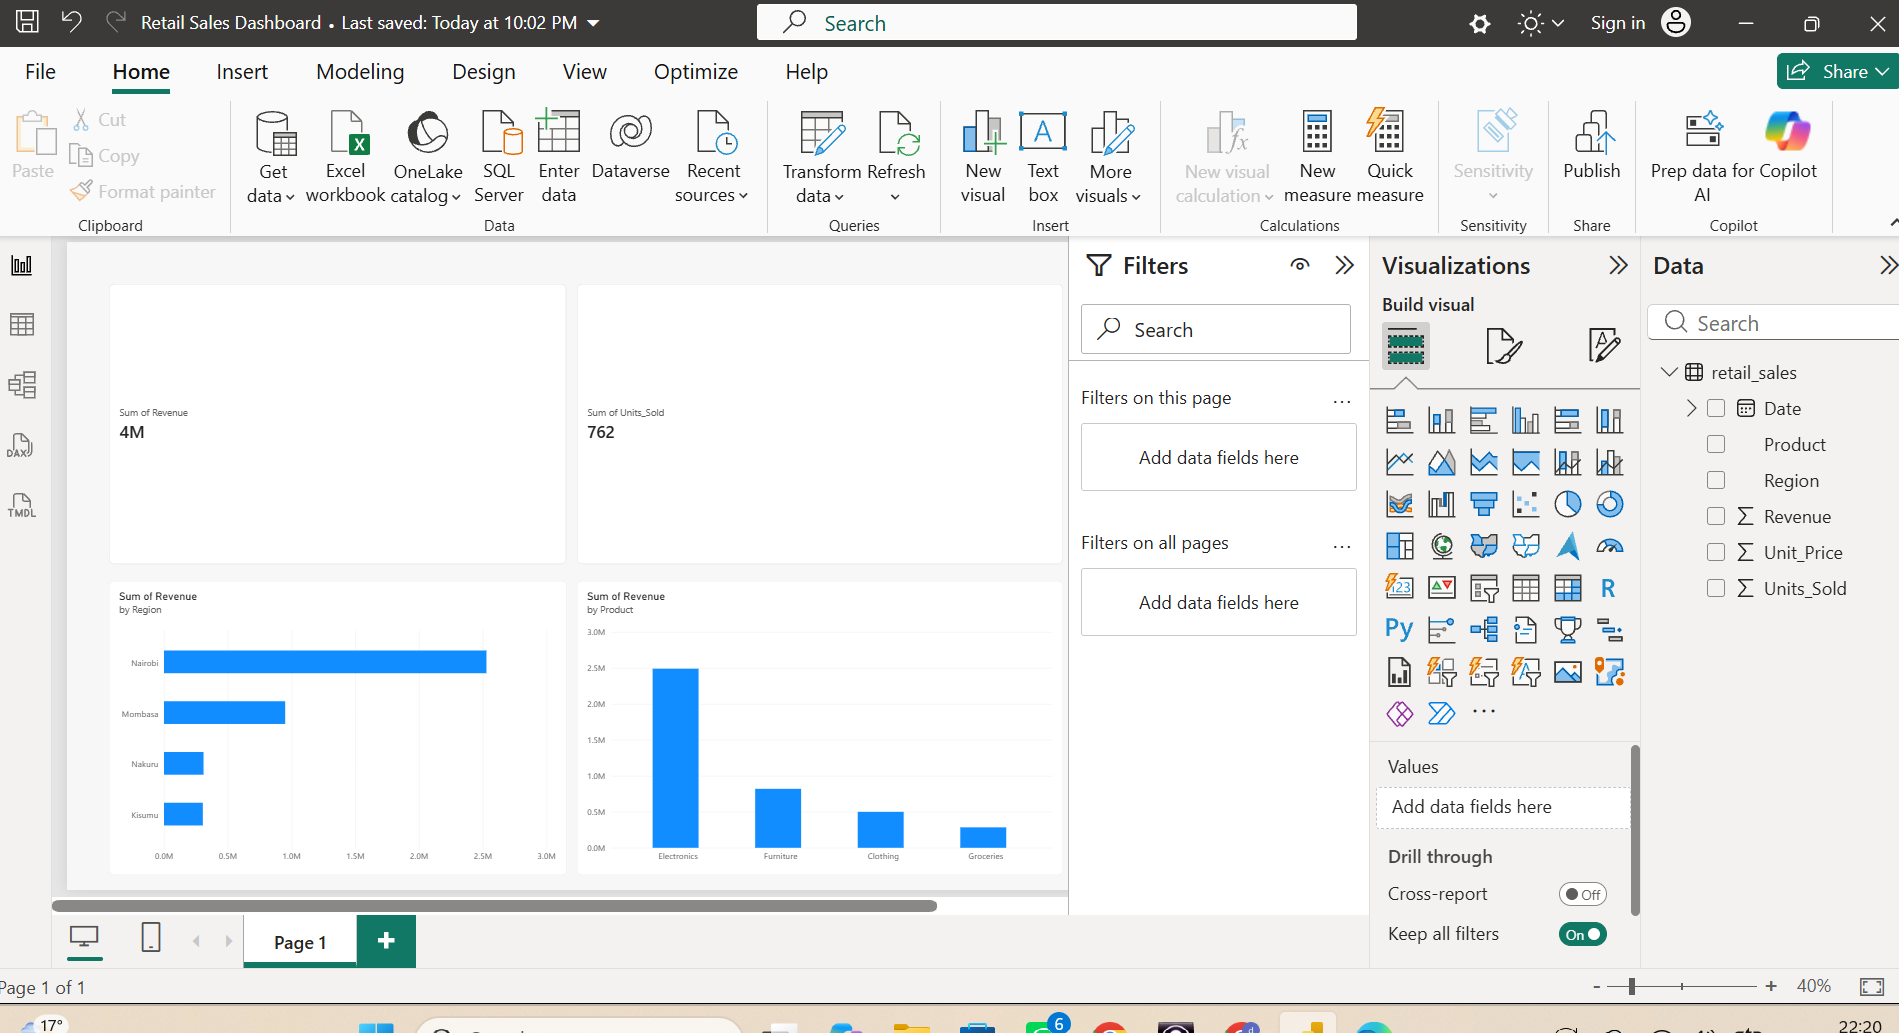

This screenshot's page, from the dashboard's own definition file:
{"tool":"powerbi","page":{"name":"Page 1","canvas":[1920,1080],"ordinal":0},"visuals":[{"type":"cardVisual","fields":{"Data":["Sum(retail_sales.Revenue)"]},"box":[59.5,48.2,779.5,490.4],"z":0},{"type":"cardVisual","fields":{"Data":["Sum(retail_sales.Units_Sold)"]},"box":[997.8,48.2,881.6,490.4],"z":1000},{"type":"barChart","fields":{"Category":["retail_sales.Region"],"Y":["Sum(retail_sales.Revenue)"]},"box":[59.5,564.1,780,490],"z":2000},{"type":"columnChart","fields":{"Category":["retail_sales.Product"],"Y":["Sum(retail_sales.Revenue)"]},"box":[997.8,564.1,881.6,490.4],"z":3000},{"type":"textbox","box":[850,48,780,490],"z":3001},{"type":"textbox","box":[850,564,780,490],"z":3002},{"type":"textbox","box":[100,100,300,300],"z":3003},{"type":"textbox","box":[100,100,300,300],"z":3004}]}

Visuals, with their boxes on the page's 1920x1080 design canvas (x1, y1, x2, y2). These are canvas units, not pixel positions in the 1899x1033 screenshot, which may show the page scaled, cropped or inside an application window:
cardVisual - Sum(retail_sales.Revenue): select_region(60, 48, 839, 539)
cardVisual - Sum(retail_sales.Units_Sold): select_region(998, 48, 1879, 539)
barChart - retail_sales.Region x Sum(retail_sales.Revenue): select_region(60, 564, 840, 1054)
columnChart - retail_sales.Product x Sum(retail_sales.Revenue): select_region(998, 564, 1879, 1054)
textbox: select_region(850, 48, 1630, 538)
textbox: select_region(850, 564, 1630, 1054)
textbox: select_region(100, 100, 400, 400)
textbox: select_region(100, 100, 400, 400)
